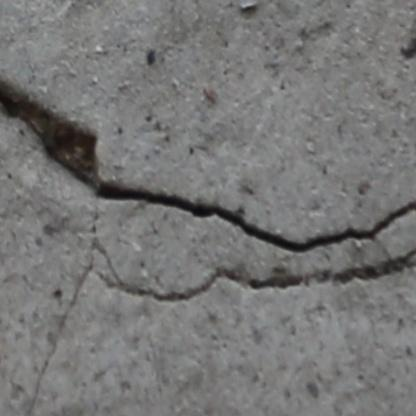Cracks: (0, 66, 416, 258), (66, 231, 416, 313), (16, 341, 62, 416)
